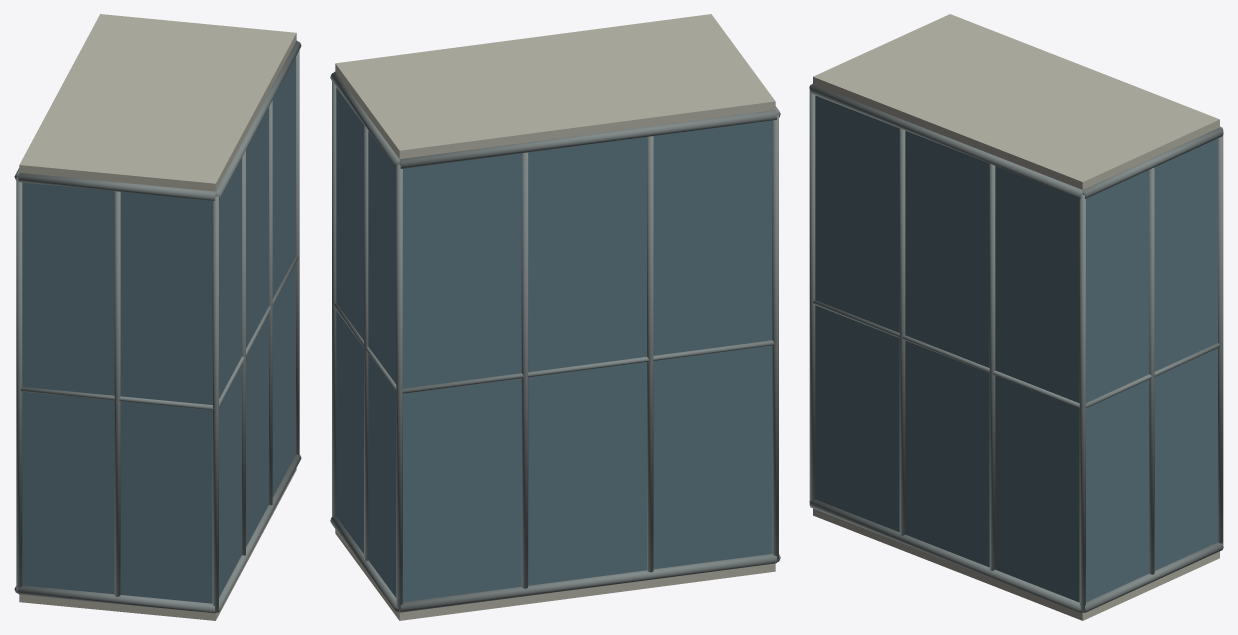
The model's file is connector-v1-v2-lod0.glb.
The picture shows the model from 3 angles, left to right: view 1: azimuth 30°, elevation 25°; view 2: azimuth 150°, elevation 25°; view 3: azimuth 270°, elevation 25°; orthographic projection. The views are drawn at different scales.
Parts seen in each view (by area): view 1: connector-v1-v2_MATERIAL_BATCH; view 2: connector-v1-v2_MATERIAL_BATCH; view 3: connector-v1-v2_MATERIAL_BATCH.
Boxes of the visible parts, x1,y1,x2,y2 form: connector-v1-v2_MATERIAL_BATCH: [14, 14, 301, 620]; connector-v1-v2_MATERIAL_BATCH: [330, 14, 780, 620]; connector-v1-v2_MATERIAL_BATCH: [809, 14, 1223, 620].
Size of the model in its own units: 4.41 by 5.27 by 4.51.
